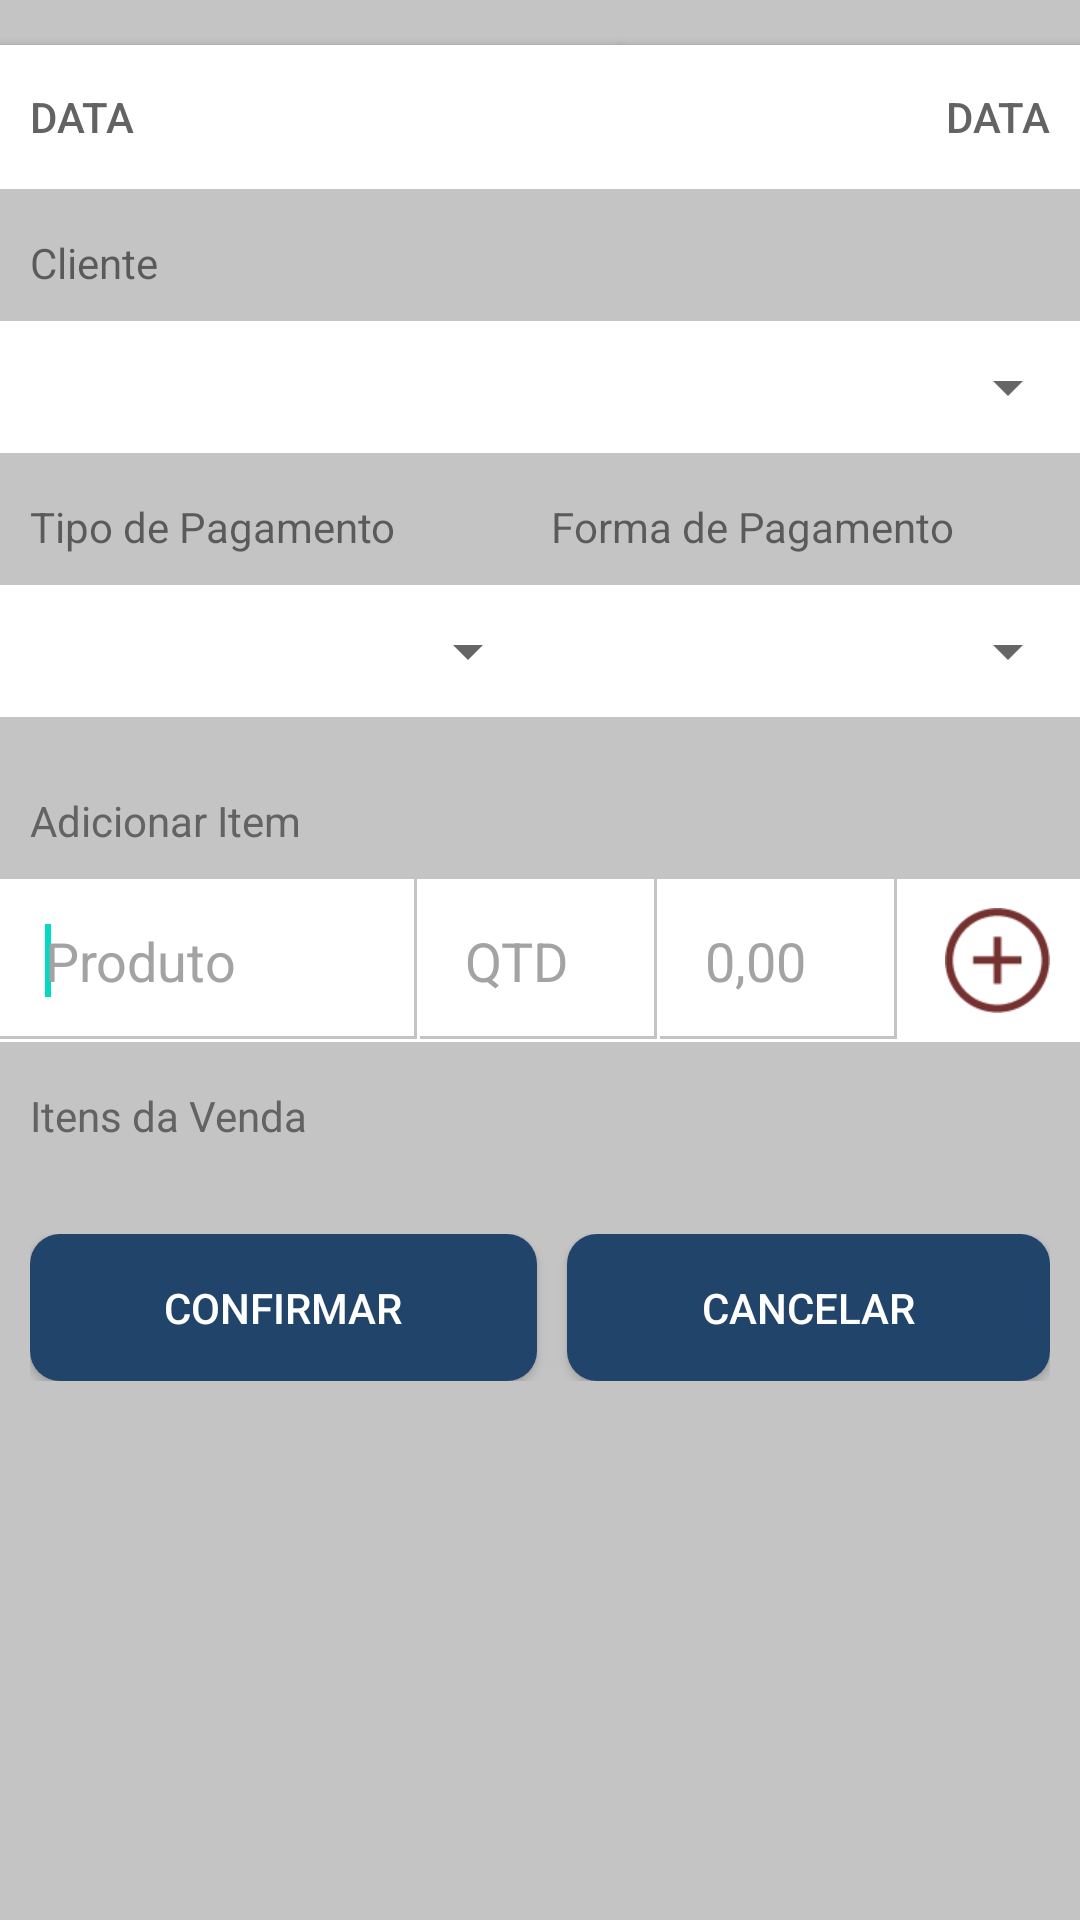

Where to tap for icons on this 1080 x 1920 app screen, as point (x, y):
add: point (997, 960)
